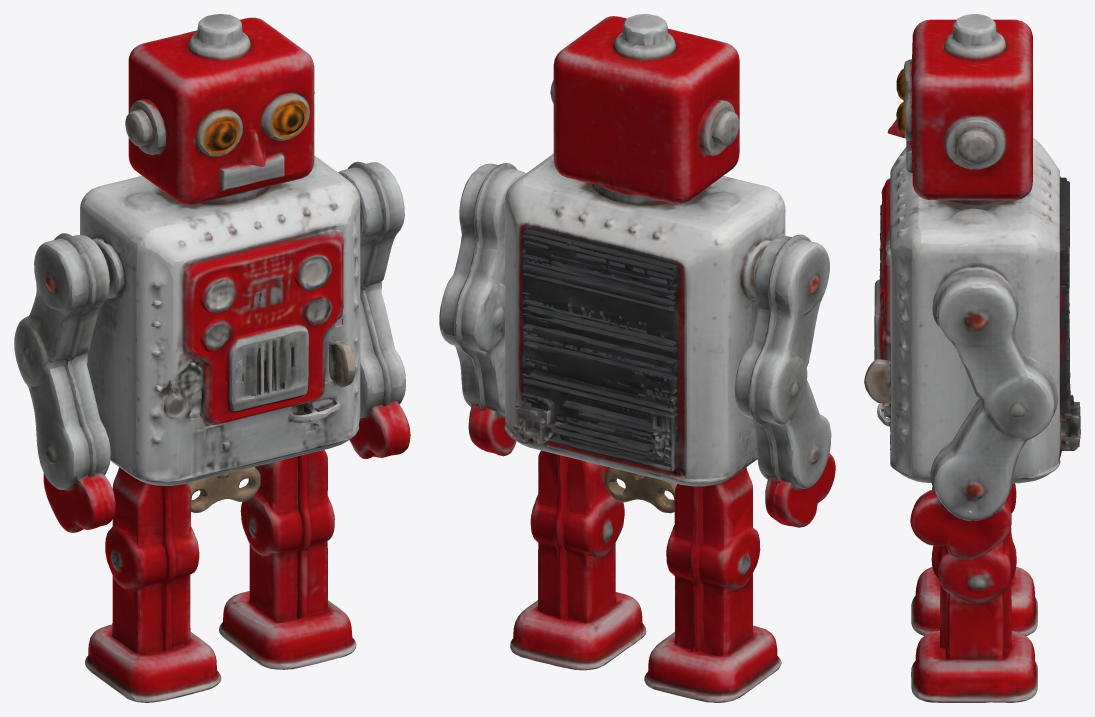
The model's file is parts.glb.
3 views of the same model, side by side, from view 1: azimuth 30°, elevation 25°; view 2: azimuth 150°, elevation 25°; view 3: azimuth 270°, elevation 25° (orthographic).
Bounding box in the file's own units: 0.1423 × 0.25 × 0.0784.
Materials: 7 (7 with a texture image).
